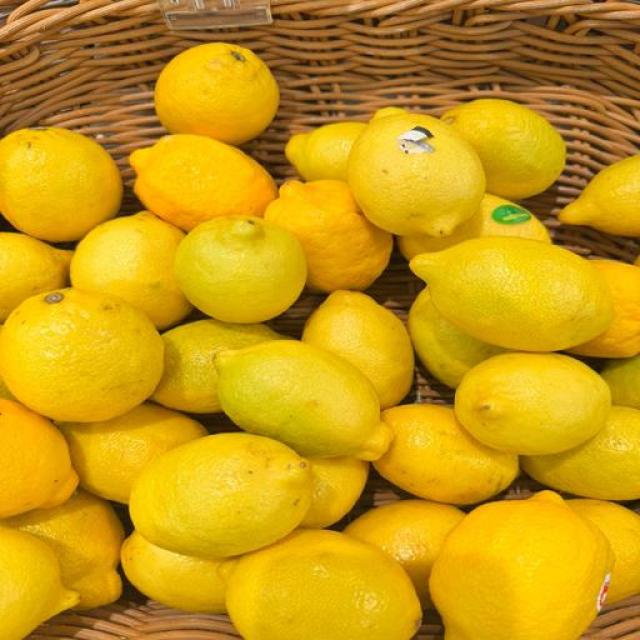organic: (0, 0, 639, 261), (492, 205, 531, 224)
